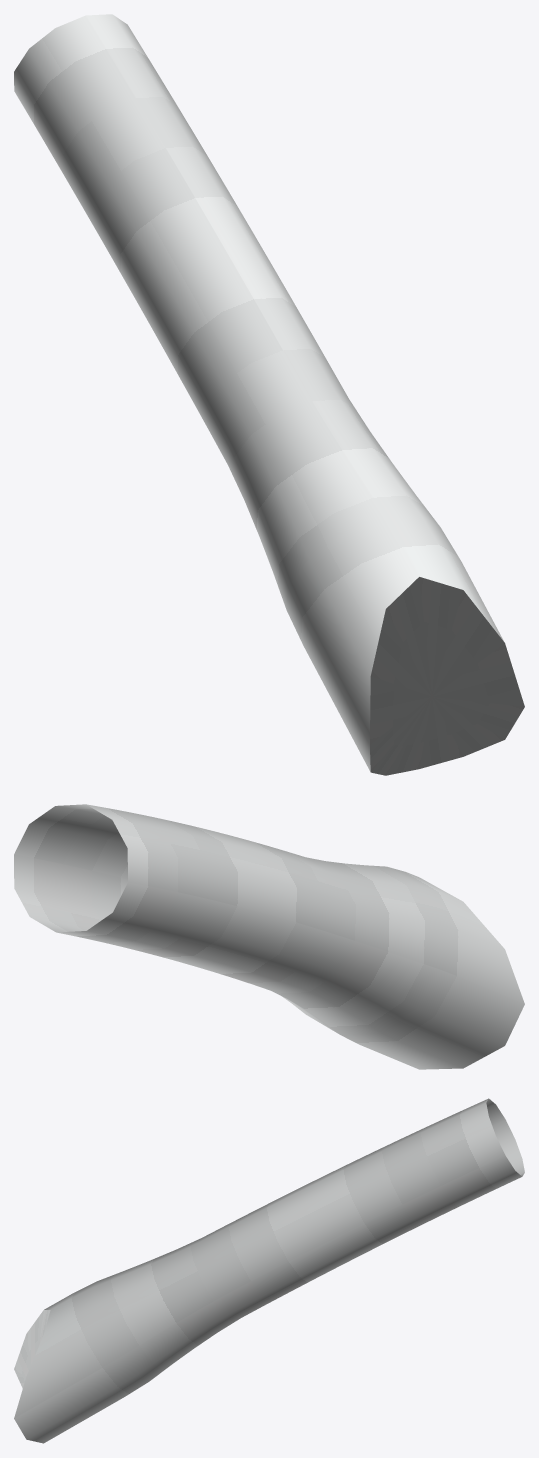
The model's file is luminairearm_caltrans15ftdouble_c0_pedestal.obj.
The picture shows the model from 3 angles, top to bottom: view 1: azimuth 30°, elevation 25°; view 2: azimuth 150°, elevation 25°; view 3: azimuth 270°, elevation 25°; orthographic projection. The views are drawn at different scales.
Parts seen in each view (by area): view 1: luminairearm_caltrans15ftdouble_c0_pedestal; view 2: luminairearm_caltrans15ftdouble_c0_pedestal; view 3: luminairearm_caltrans15ftdouble_c0_pedestal.
Part boxes in pixels (left/top/right/bottom): luminairearm_caltrans15ftdouble_c0_pedestal: left=14, top=14, right=524, bottom=775; luminairearm_caltrans15ftdouble_c0_pedestal: left=14, top=804, right=524, bottom=1069; luminairearm_caltrans15ftdouble_c0_pedestal: left=14, top=1098, right=524, bottom=1443.
Size of the model in its own units: 0.3375 by 1.06 by 1.47.
